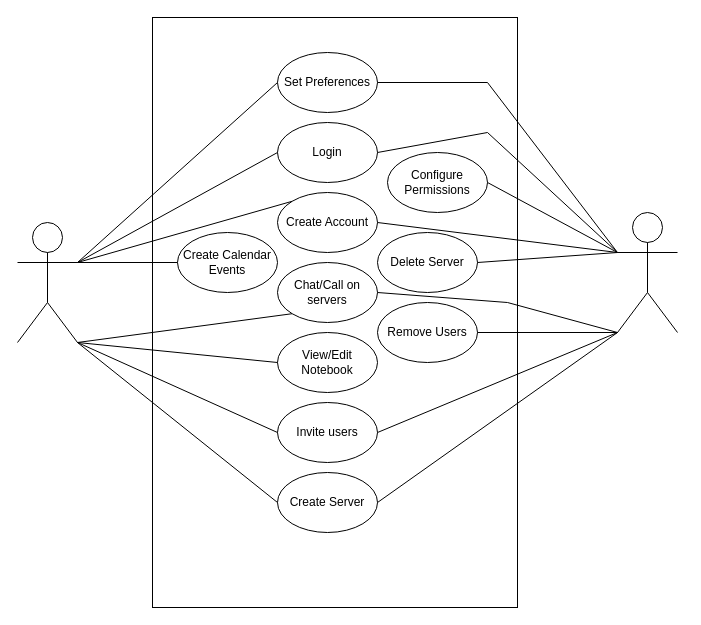
This 701x625 diagram has some shape labels left out. The centre of each missing label's shape, as x and y in pixels:
"Server Admin" goes at pixel 647 272.
"User" goes at pixel 47 282.
